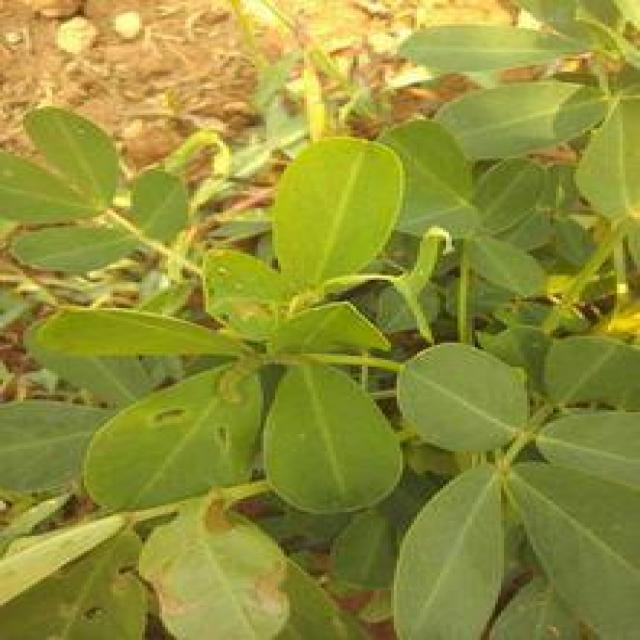BeetArmyWorm-Larva-: (210, 351, 266, 412)
